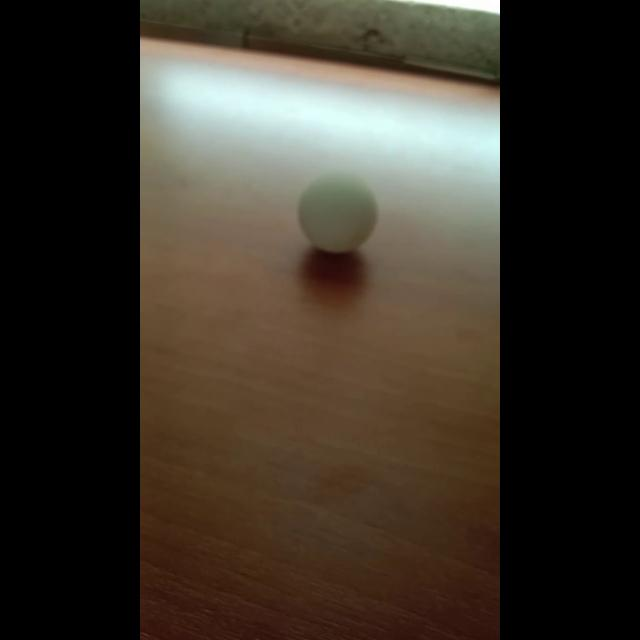white ball: (296, 171, 378, 253)
